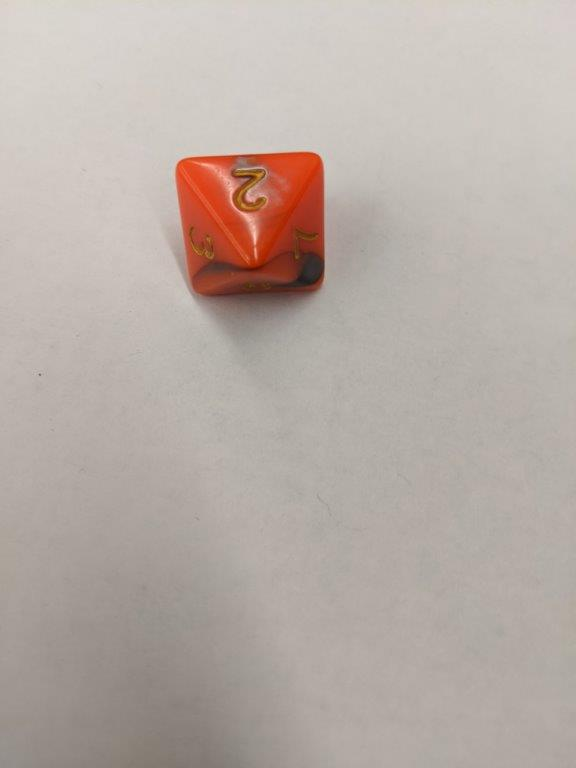d8-2: (173, 148, 329, 300)
